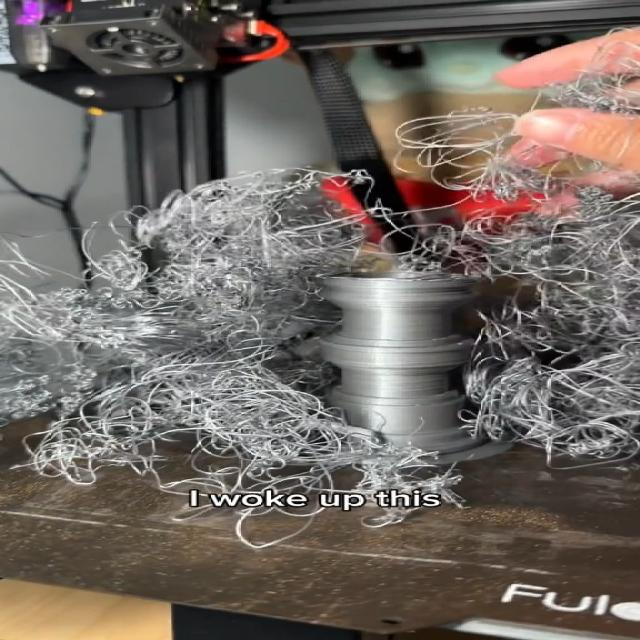spaghetti: (15, 52, 640, 530)
